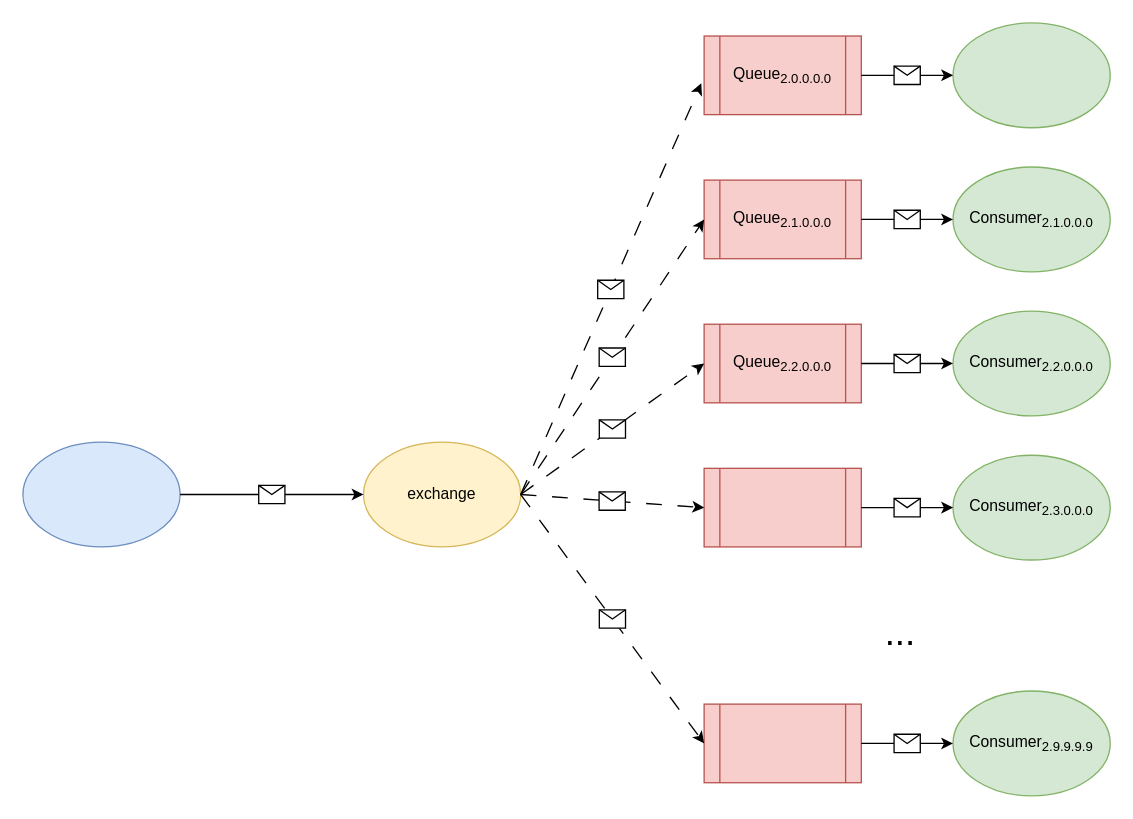
The diagram is 1133 pixels wide and 819 high, and some of its shapes have lost their labels. Each missing label, with the box of its shape:
Consumer 2.0.0.0.0: (952, 22, 1110, 128)
producer v.w.x.y.z: (22, 441, 180, 547)
Queue 2.3.0.0.0: (703, 467, 861, 547)
Queue 2.9.9.9.9: (703, 703, 861, 783)
